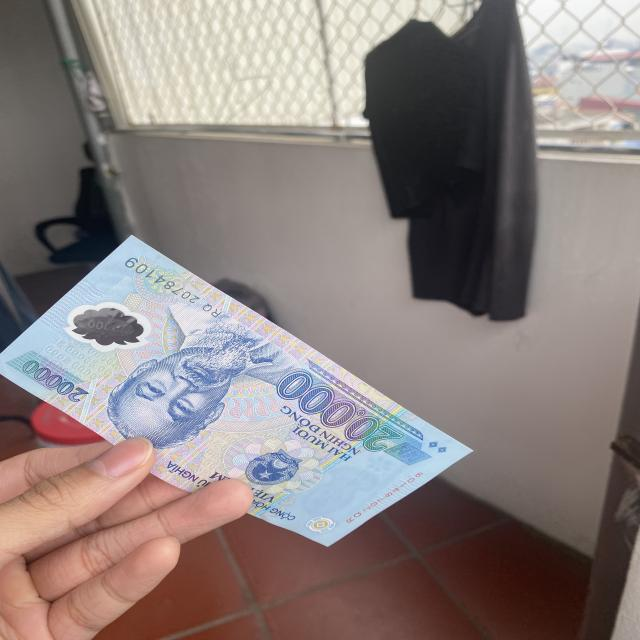20 000 VND: (2, 235, 475, 549)
